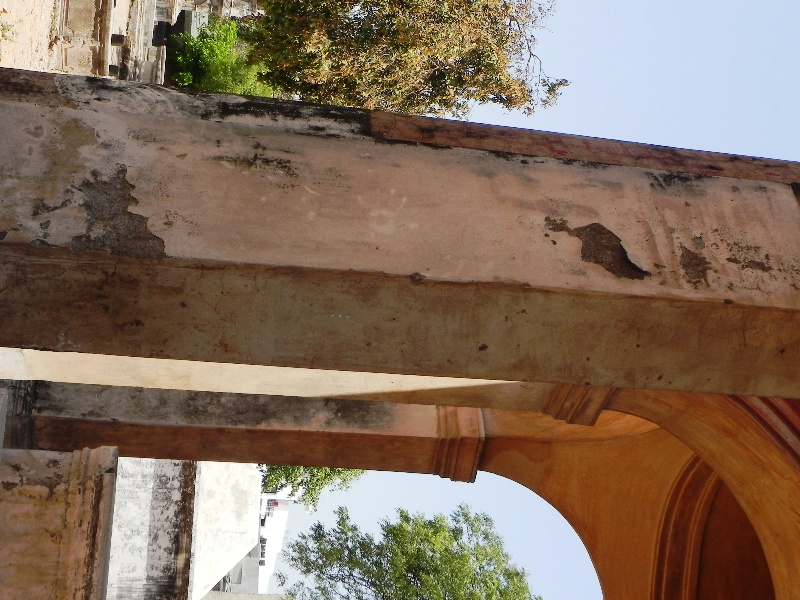Spalling: (63, 162, 174, 266), (537, 208, 660, 285)
